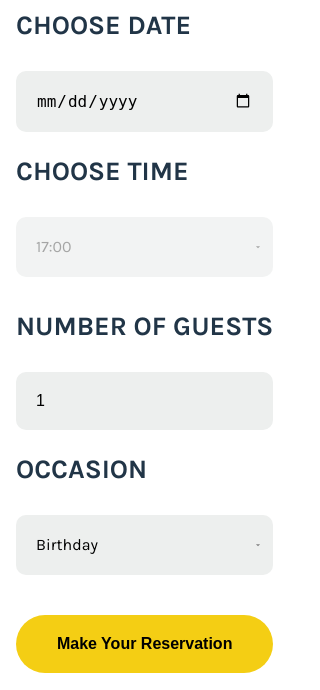
BookingForm Component › enables the time input when a date is selected
Expected: the dropdown labelled "Choose time" is disabled, [16,216,273,276]
In the date field labelled "Choose date": (145, 101) [16,70,273,132], type "2023-09-01"
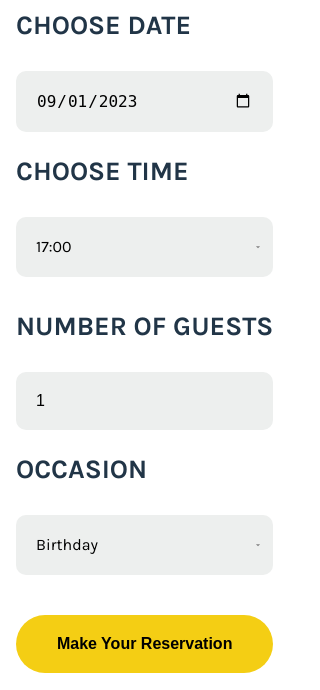
Expected: the dropdown labelled "Choose time" is enabled, [16,216,273,276]
